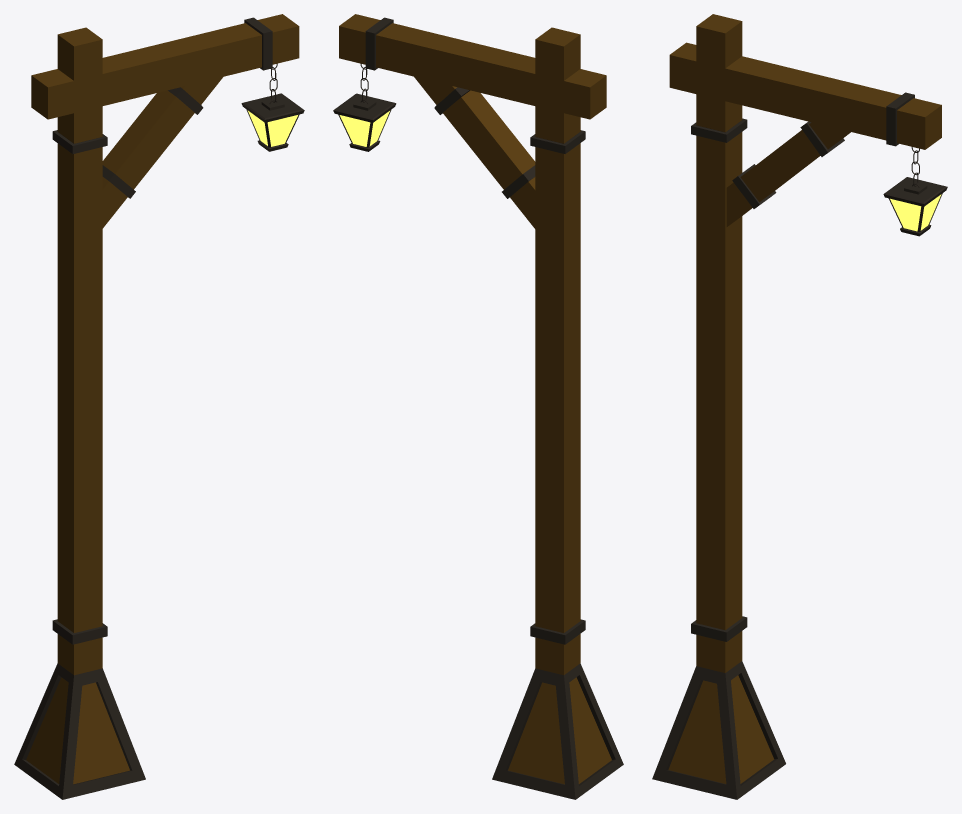
File: StreetLampV1.fbx
The picture shows the model from 3 angles, left to right: view 1: azimuth 30°, elevation 25°; view 2: azimuth 150°, elevation 25°; view 3: azimuth 330°, elevation 25°; orthographic projection.
Visible parts, largest first — view 1: Cube, Cube.001; view 2: Cube, Cube.001; view 3: Cube, Cube.001.
Boxes of the visible parts, left/top/right/bottom form: Cube: left=14, top=14, right=299, bottom=799; Cube.001: left=241, top=93, right=304, bottom=151; Cube: left=339, top=14, right=623, bottom=799; Cube.001: left=333, top=93, right=396, bottom=151; Cube: left=652, top=14, right=941, bottom=799; Cube.001: left=883, top=177, right=947, bottom=236.
Bounding box in the file's own units: 91.4 × 252 × 30.
